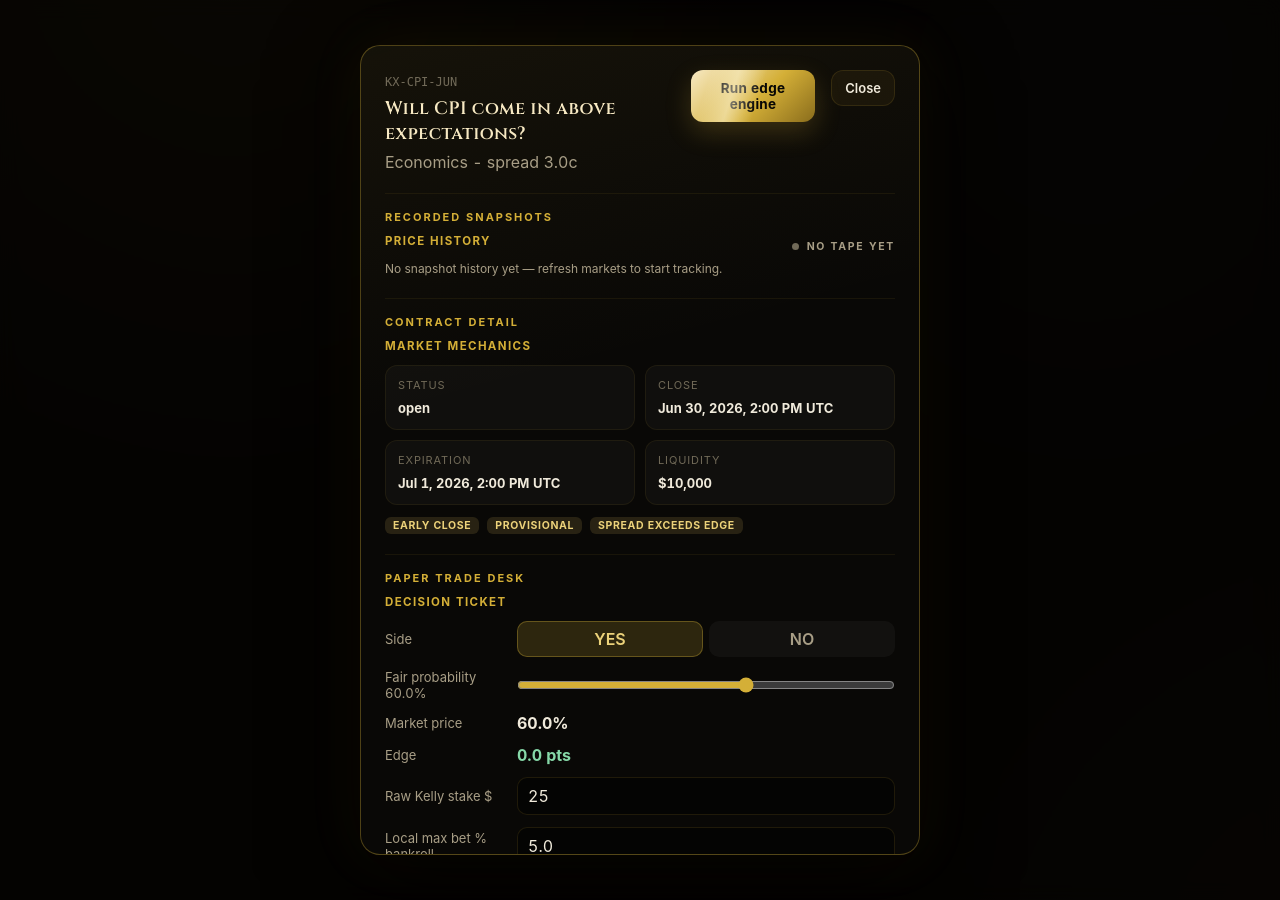
MarketDetailPanel › runs edge engine and surfaces ledger summary
Step 1. Click the button "Run edge engine" → (753, 96), box [691,70,815,122]
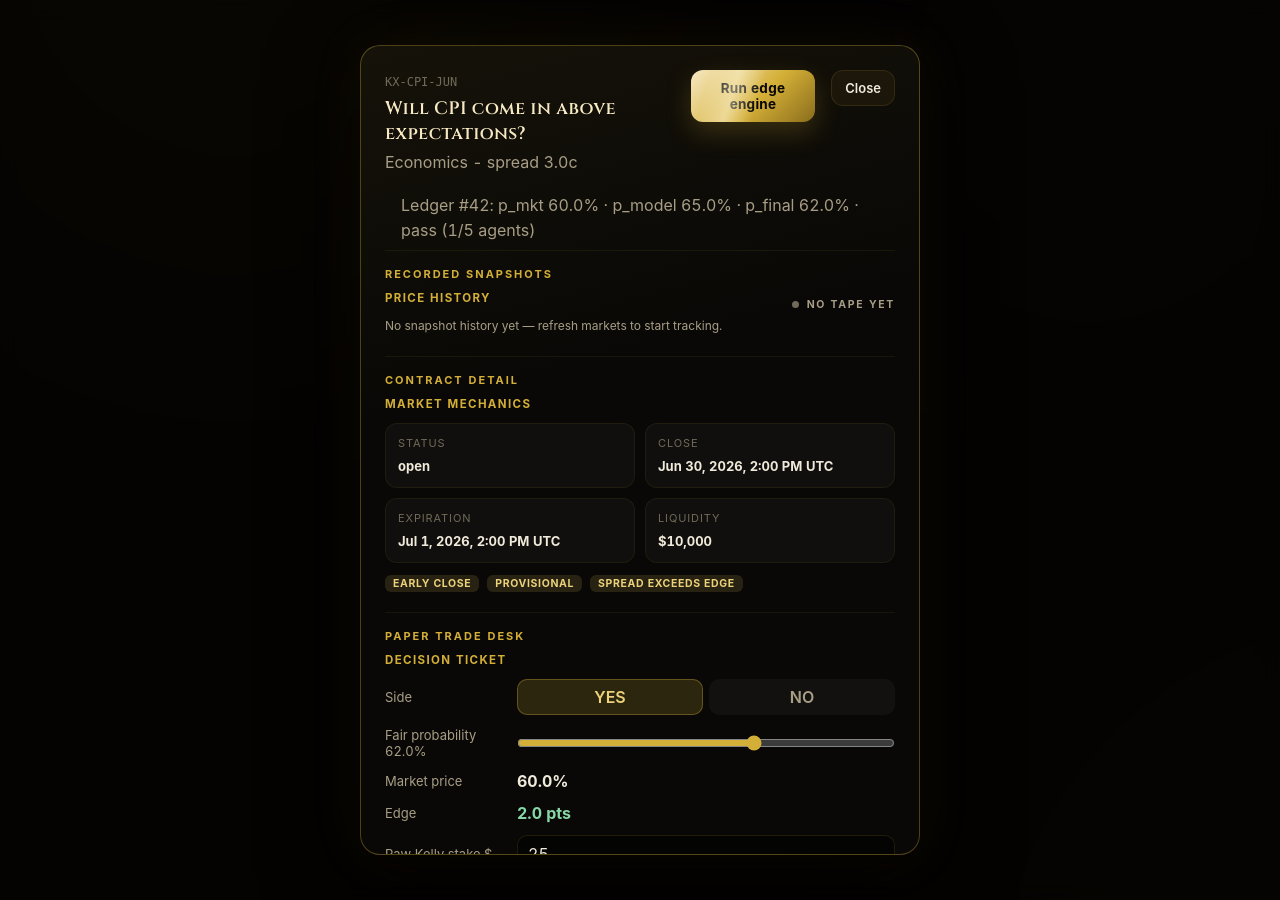
Now the text "Ledger #42" is shown, box [401,195,859,240]
